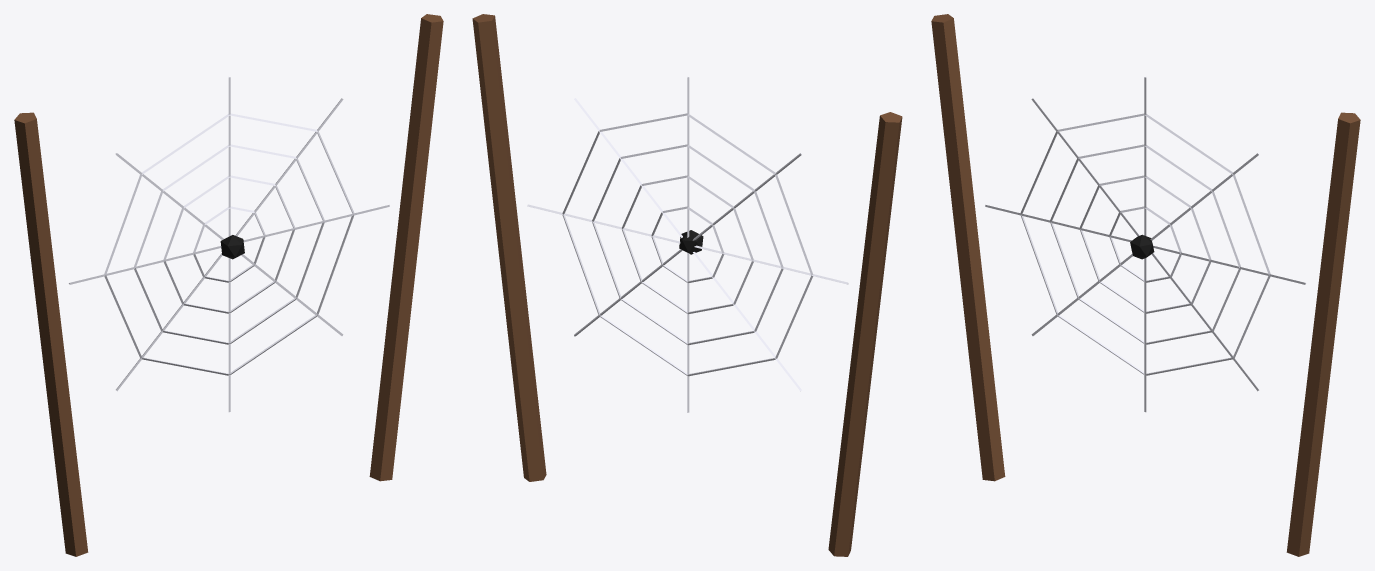
Rendered from teia.glb.
3 renders of one model, left to right at view 1: azimuth 30°, elevation 25°; view 2: azimuth 150°, elevation 25°; view 3: azimuth 330°, elevation 25°, orthographic.
Parts seen in each view (by area): view 1: galho_1, galho_-1, anel_3, anel_2, anel_1, anel_0; view 2: galho_1, galho_-1, anel_3, anel_2, anel_1, anel_0; view 3: galho_-1, galho_1, anel_3, anel_2, anel_1, anel_0.
Boxes of the visible parts, <box> form: galho_1: <box>369,14,443,481</box>; galho_-1: <box>14,112,88,556</box>; anel_3: <box>104,113,354,375</box>; anel_2: <box>134,144,324,344</box>; anel_1: <box>163,175,294,313</box>; anel_0: <box>193,206,265,282</box>; galho_1: <box>472,14,546,481</box>; galho_-1: <box>828,112,902,556</box>; anel_3: <box>562,113,813,376</box>; anel_2: <box>592,144,783,345</box>; anel_1: <box>622,175,753,314</box>; anel_0: <box>651,206,724,282</box>; galho_-1: <box>931,14,1005,481</box>; galho_1: <box>1286,112,1360,556</box>; anel_3: <box>1020,113,1270,375</box>; anel_2: <box>1050,144,1240,344</box>; anel_1: <box>1080,175,1211,313</box>; anel_0: <box>1109,206,1181,282</box>.
Size of the model in its own units: 1.44 by 1.45 by 0.089.
